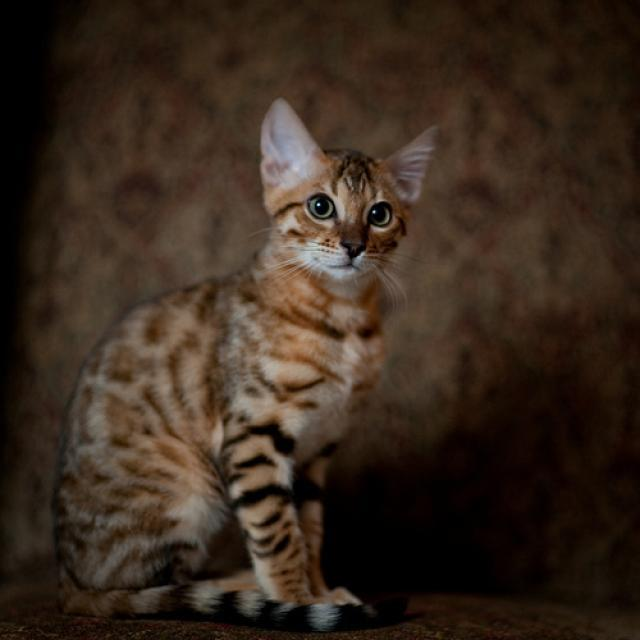Bengal: (251, 89, 447, 286)
